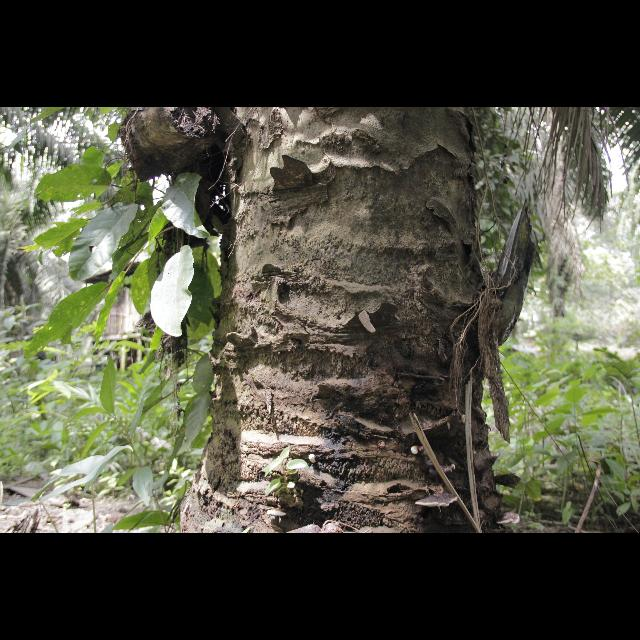ganoderma: (420, 447, 453, 479), (416, 494, 458, 509), (287, 526, 323, 535), (498, 514, 521, 527), (323, 524, 345, 534), (268, 510, 288, 519)
primordium: (310, 456, 319, 465), (412, 447, 420, 456), (462, 416, 467, 425), (452, 465, 456, 471)
